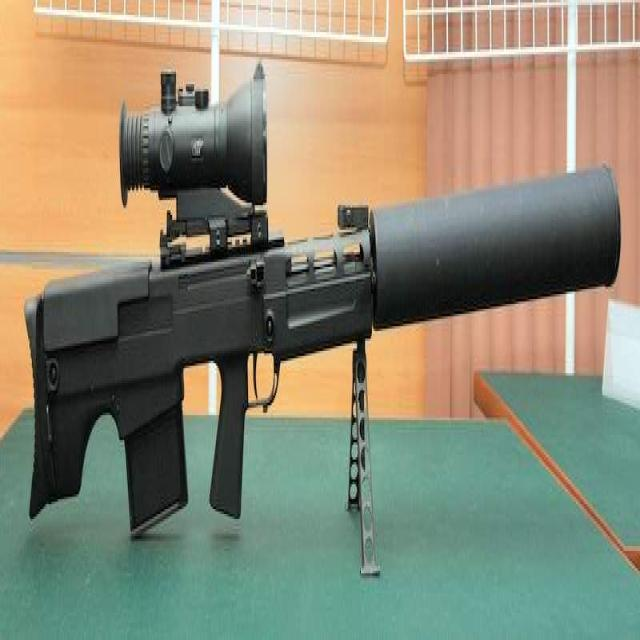firearm: (22, 61, 622, 586)
